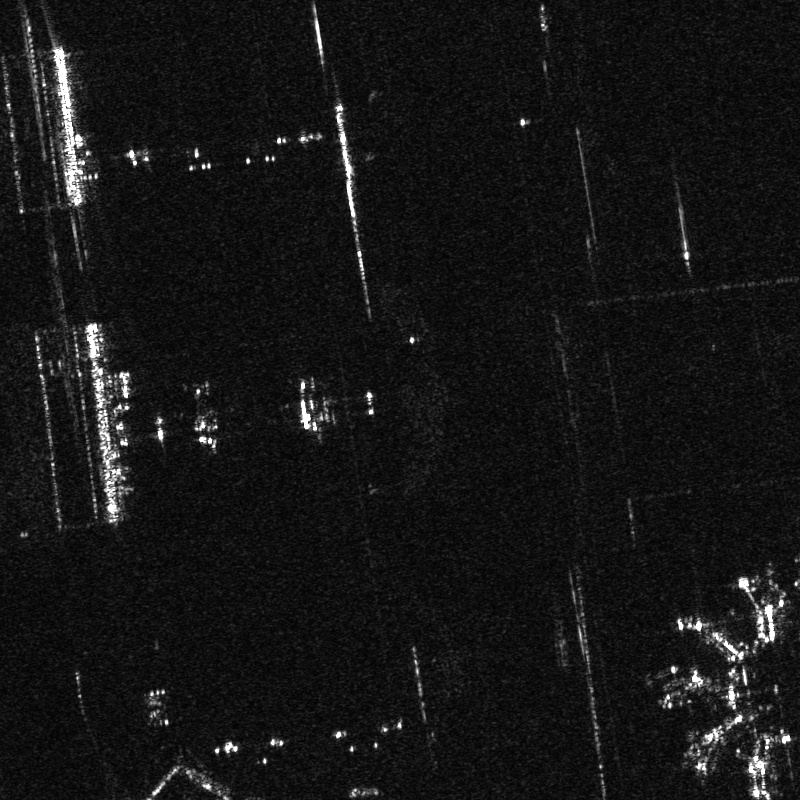A220: (172, 379, 237, 452)
